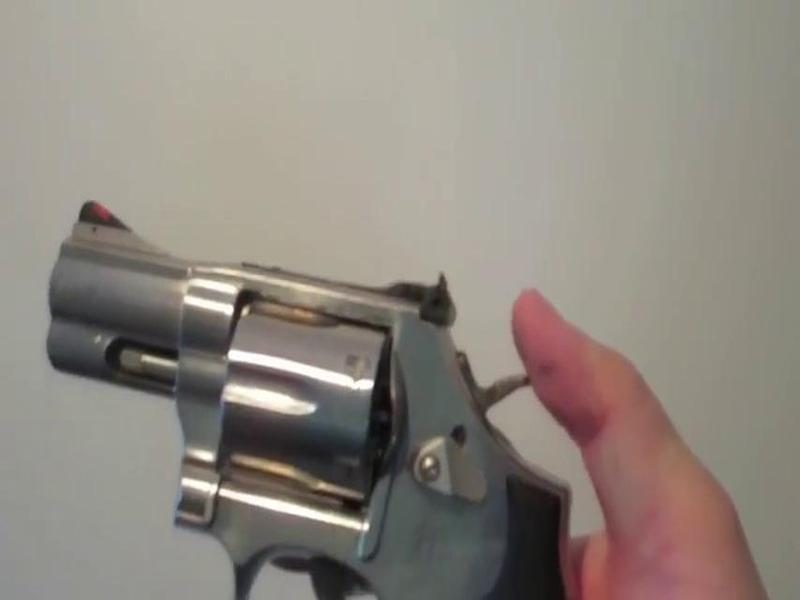Revolver: (39, 152, 542, 545)
